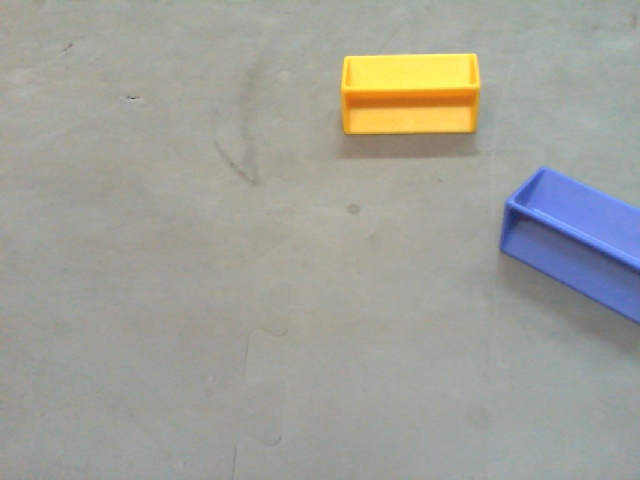BlueSample: (493, 161, 640, 325)
YellowSample: (339, 52, 479, 135)
